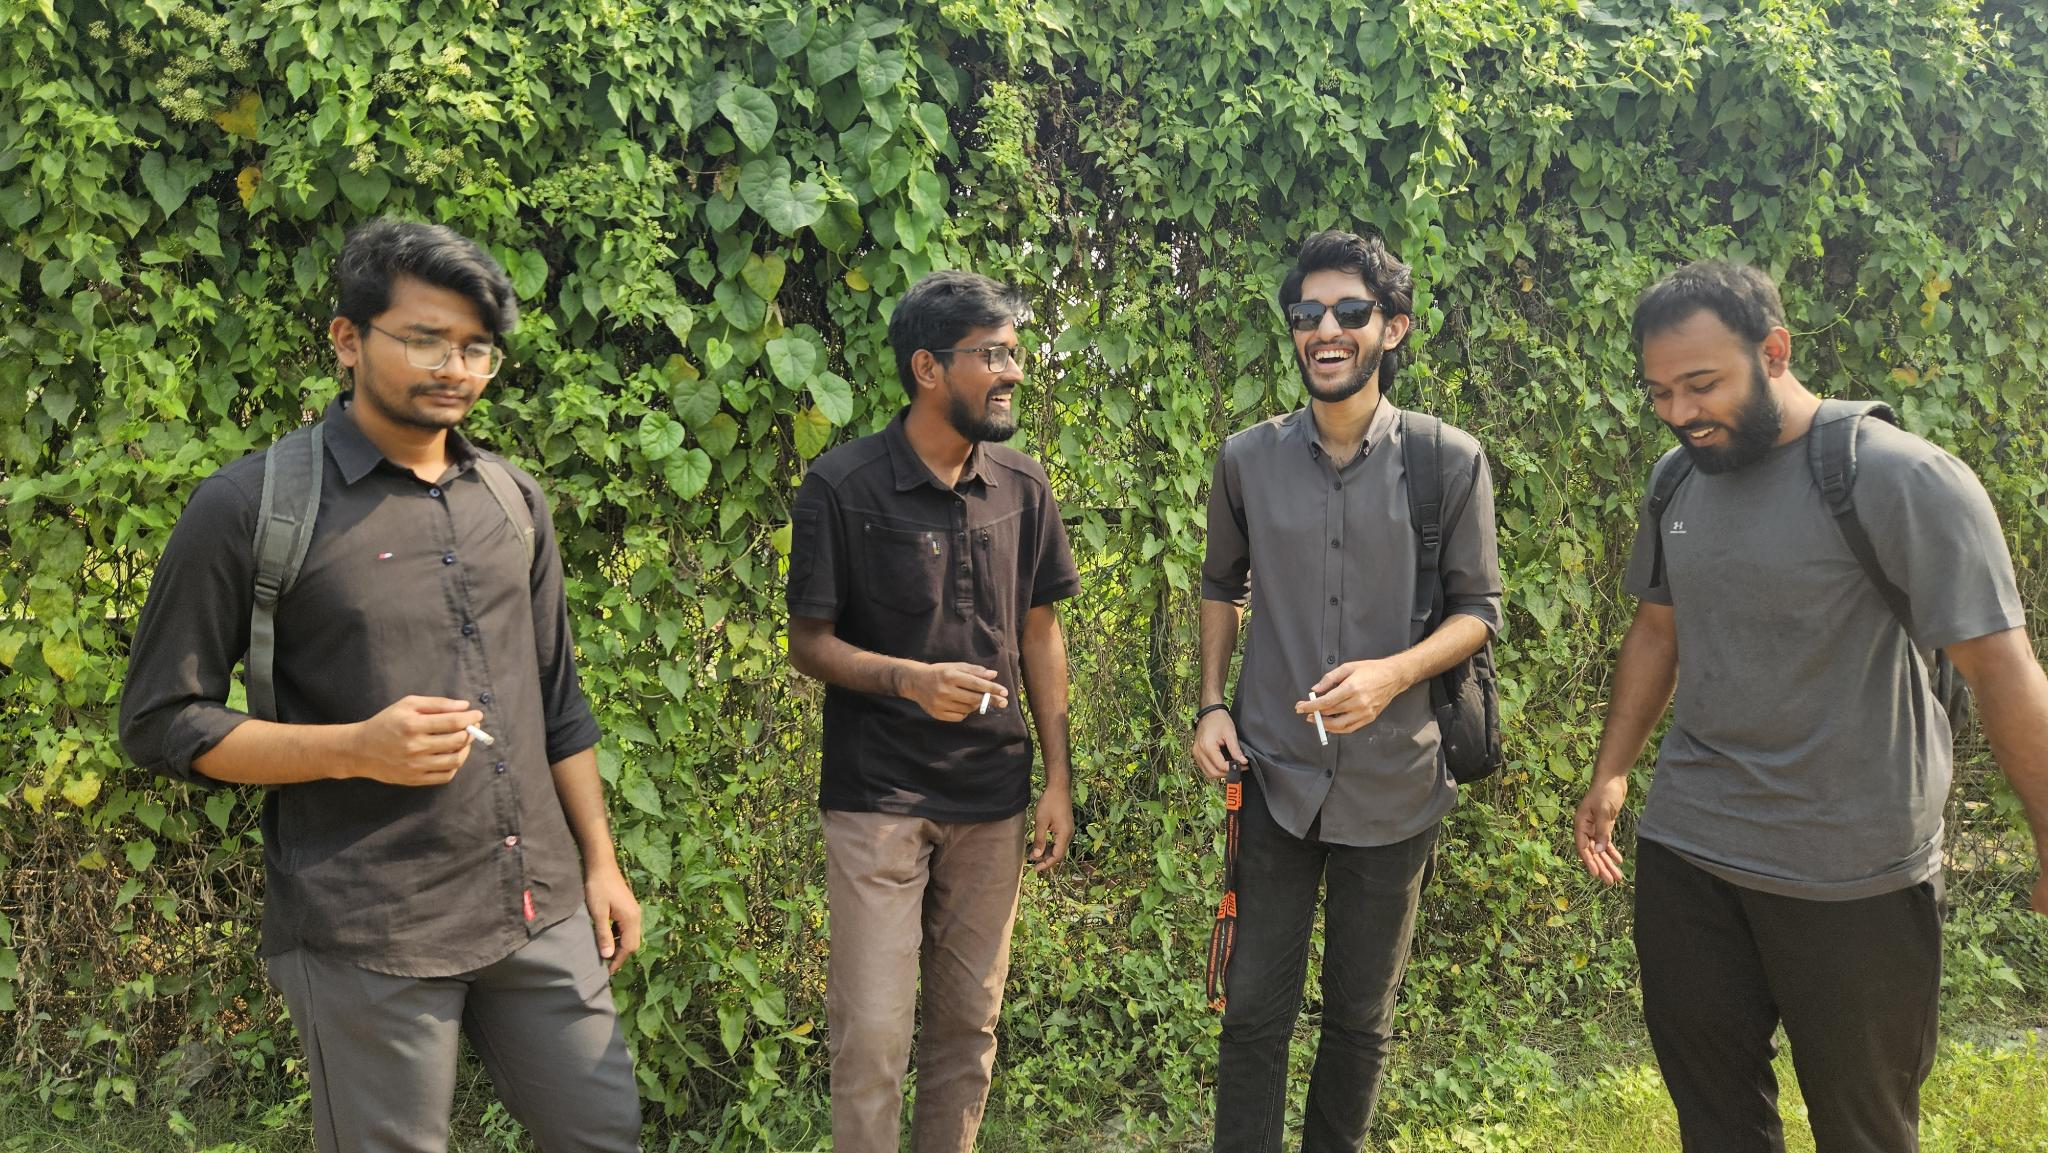cigarette: (1308, 690, 1331, 748), (464, 724, 495, 748), (979, 690, 992, 714)
nonSmoker: (1574, 260, 2048, 1153)
smoker: (118, 222, 643, 1153), (1191, 231, 1505, 1153), (785, 271, 1083, 1153)
